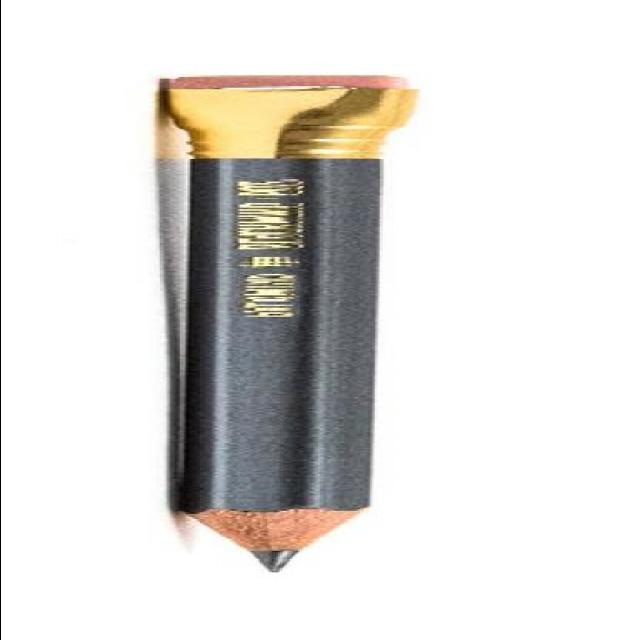Pencil: (138, 501, 398, 576)
